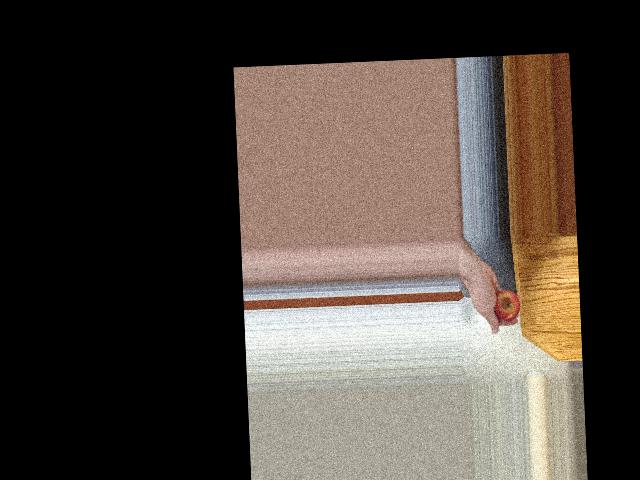apple: (489, 287, 521, 323)
